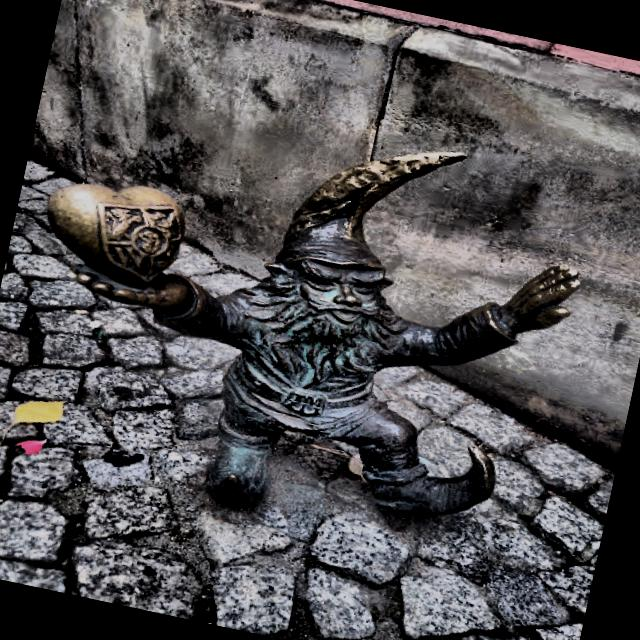WrocLovek: (39, 149, 593, 528)
